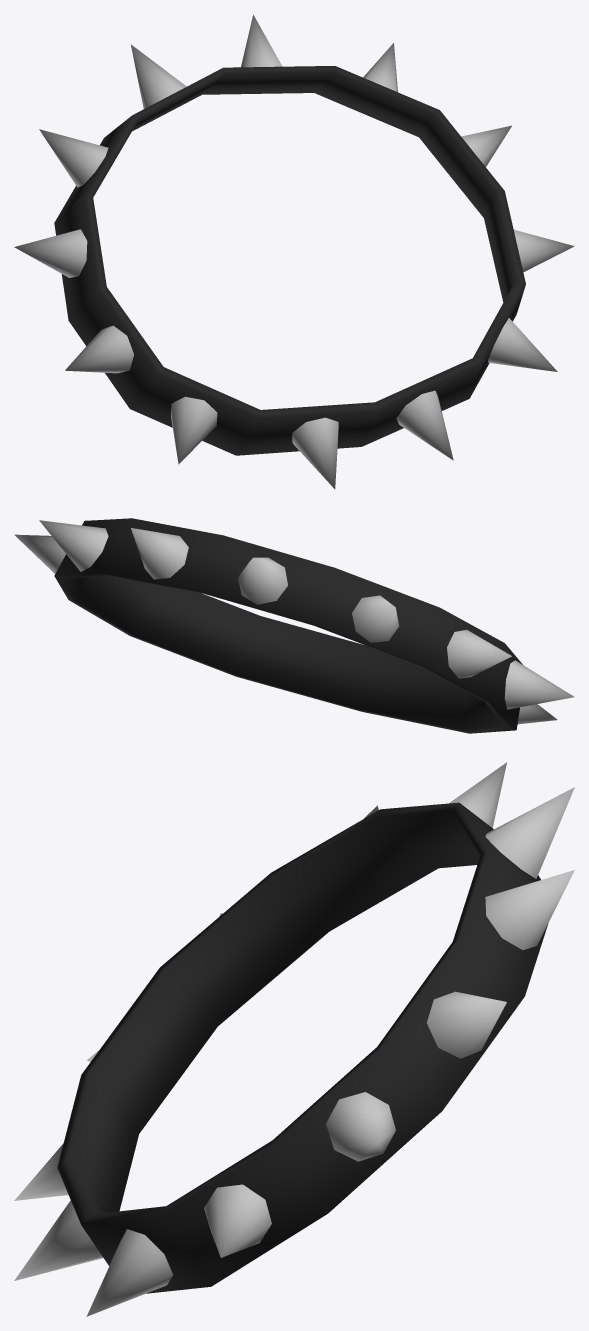
The model's file is Acce_neck_Spike.FBX.
The picture shows the model from 3 angles, top to bottom: view 1: azimuth 30°, elevation 25°; view 2: azimuth 150°, elevation 25°; view 3: azimuth 270°, elevation 25°; orthographic projection. The views are drawn at different scales.
Visible parts, largest first — view 1: neck_Spike; view 2: neck_Spike; view 3: neck_Spike.
Boxes of the visible parts, left/top/right/bottom form: neck_Spike: left=14, top=14, right=574, bottom=489; neck_Spike: left=14, top=518, right=574, bottom=733; neck_Spike: left=14, top=762, right=574, bottom=1316.
Bounding box in the file's own units: 27.74 × 15.48 × 19.07.
1 material, 1 textured.
